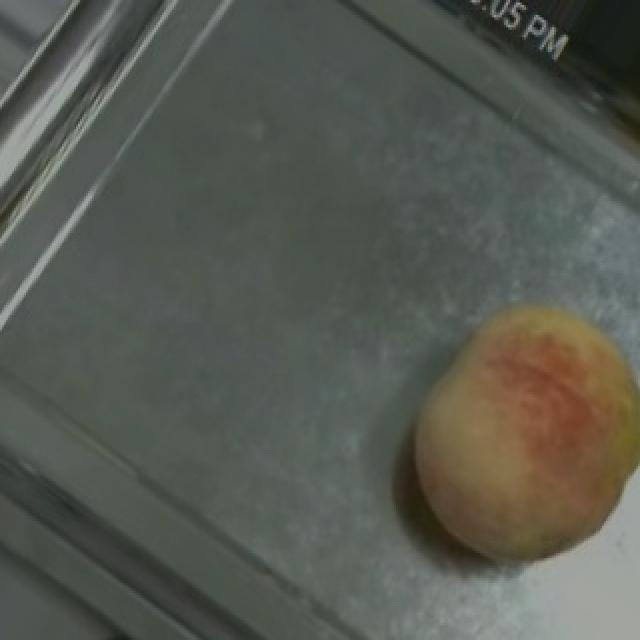Fruit: (364, 260, 640, 593)
